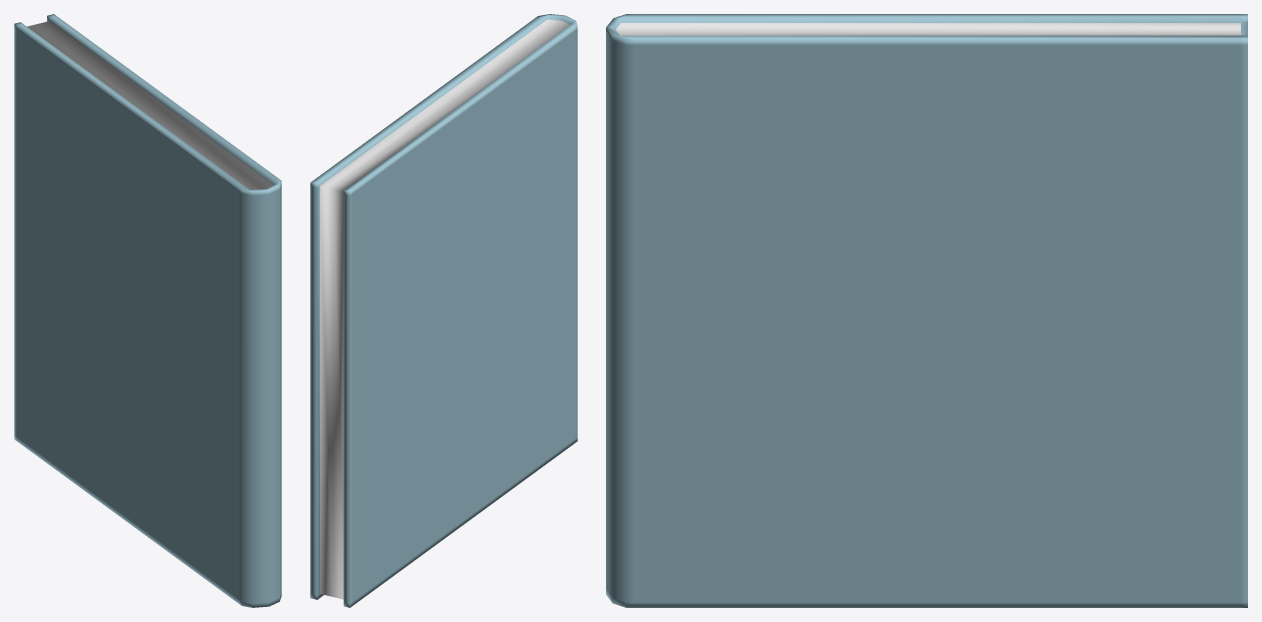
Rendered from Book_1.fbx.
3 renders of one model, left to right at view 1: azimuth 30°, elevation 25°; view 2: azimuth 150°, elevation 25°; view 3: azimuth 270°, elevation 25°, orthographic. The views are drawn at different scales.
Visible parts, largest first — view 1: Cube; view 2: Cube; view 3: Cube.
Part boxes in pixels (x1,y1,x2,y2): Cube: [14, 14, 281, 607]; Cube: [310, 14, 577, 607]; Cube: [606, 14, 1247, 607].
Size of the model in its own units: 20.35 by 204 by 209.
